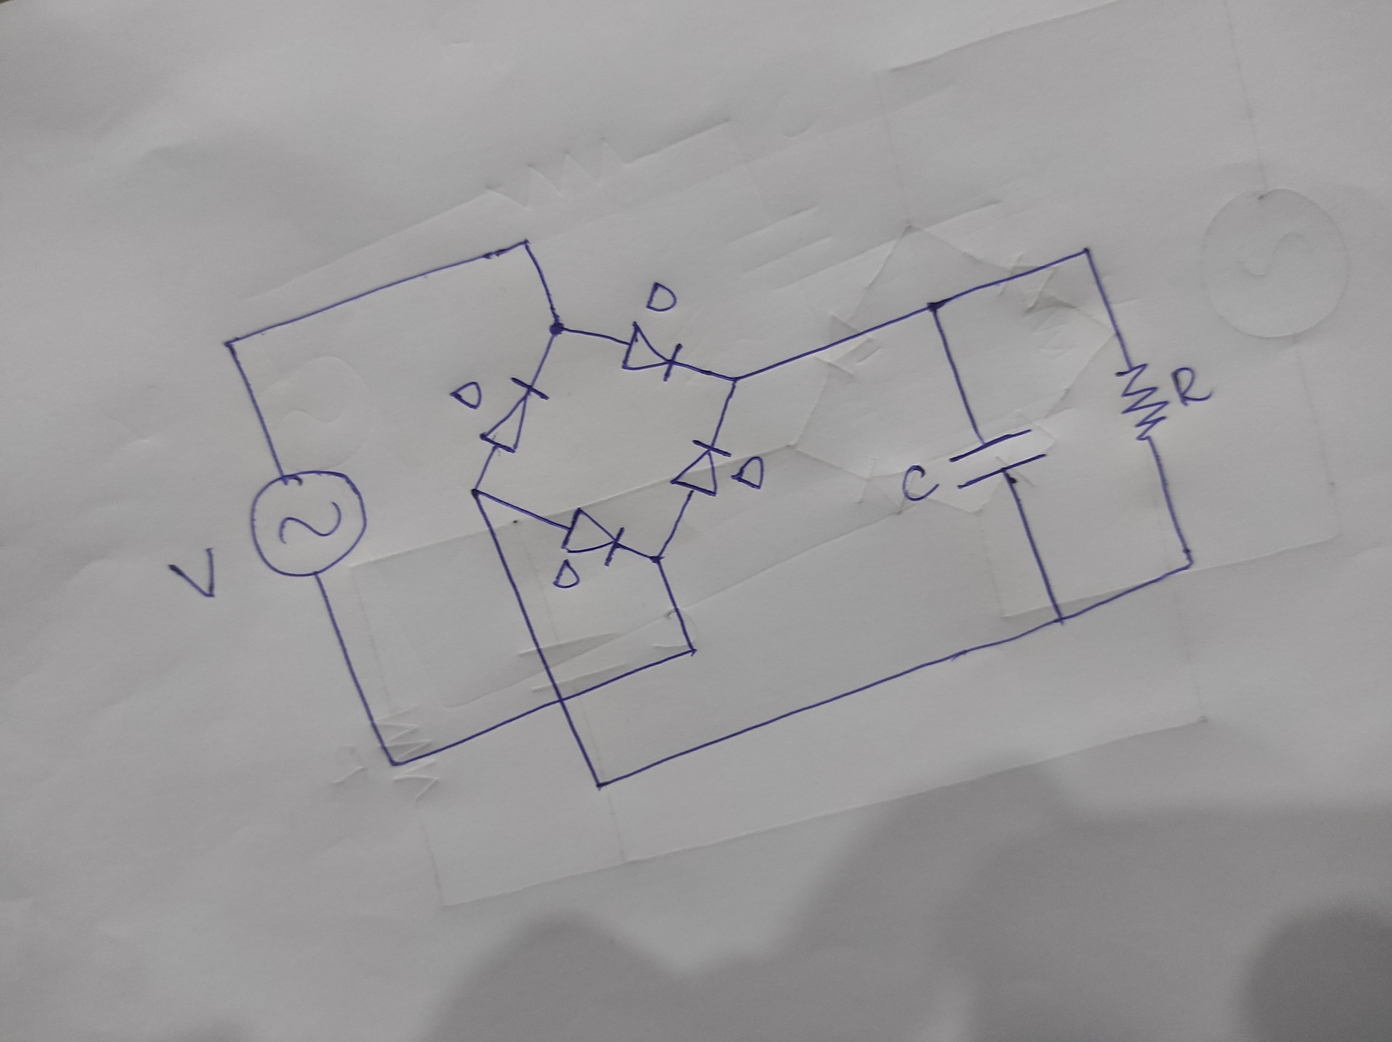capacitor.unpolarized: (947, 425, 1049, 491)
crossover: (545, 687, 575, 713)
diode: (477, 371, 552, 456), (617, 319, 688, 384), (668, 435, 738, 498), (558, 505, 628, 567)
junction: (510, 233, 538, 257), (216, 331, 242, 355), (545, 316, 569, 341), (379, 753, 406, 775), (678, 637, 703, 660), (921, 296, 944, 320), (1076, 240, 1098, 262), (466, 481, 486, 503), (646, 549, 668, 569), (723, 371, 745, 390), (1179, 555, 1200, 572), (1049, 610, 1070, 626), (589, 776, 610, 791)
resistor: (1113, 361, 1171, 441)
text: (165, 544, 220, 600), (1169, 363, 1217, 407), (901, 463, 940, 503), (728, 453, 768, 493), (643, 279, 680, 314), (448, 378, 484, 412), (550, 557, 583, 591)
voltage.dc_ac: (242, 468, 372, 579)
